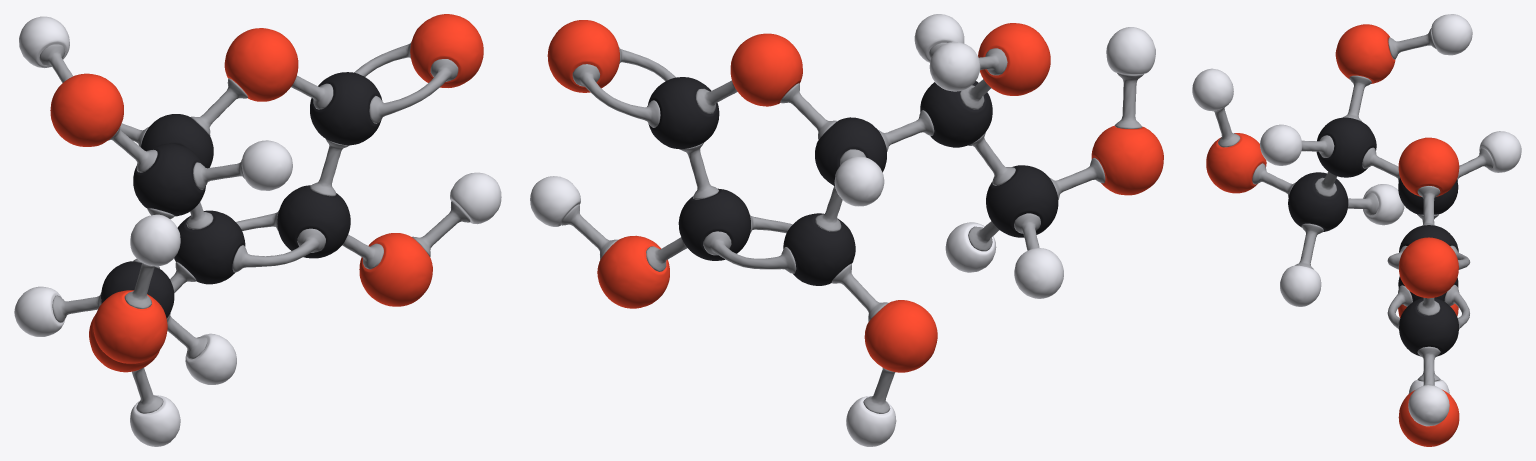
Rendered from vitamic_c_molecule.glb.
The picture shows the model from 3 angles, left to right: view 1: azimuth 30°, elevation 25°; view 2: azimuth 150°, elevation 25°; view 3: azimuth 270°, elevation 25°; orthographic projection. The views are drawn at different scales.
Parts seen in each view (by area): view 1: Hydrogen_Atom_007; view 2: Hydrogen_Atom_007; view 3: Hydrogen_Atom_007.
Part boxes in pixels (box(x1,y1,x2,y2)): Hydrogen_Atom_007: box(14, 14, 501, 446); Hydrogen_Atom_007: box(530, 14, 1163, 446); Hydrogen_Atom_007: box(1192, 14, 1521, 446).
Bounding box in the file's own units: 12.5 × 10.15 × 8.4.
